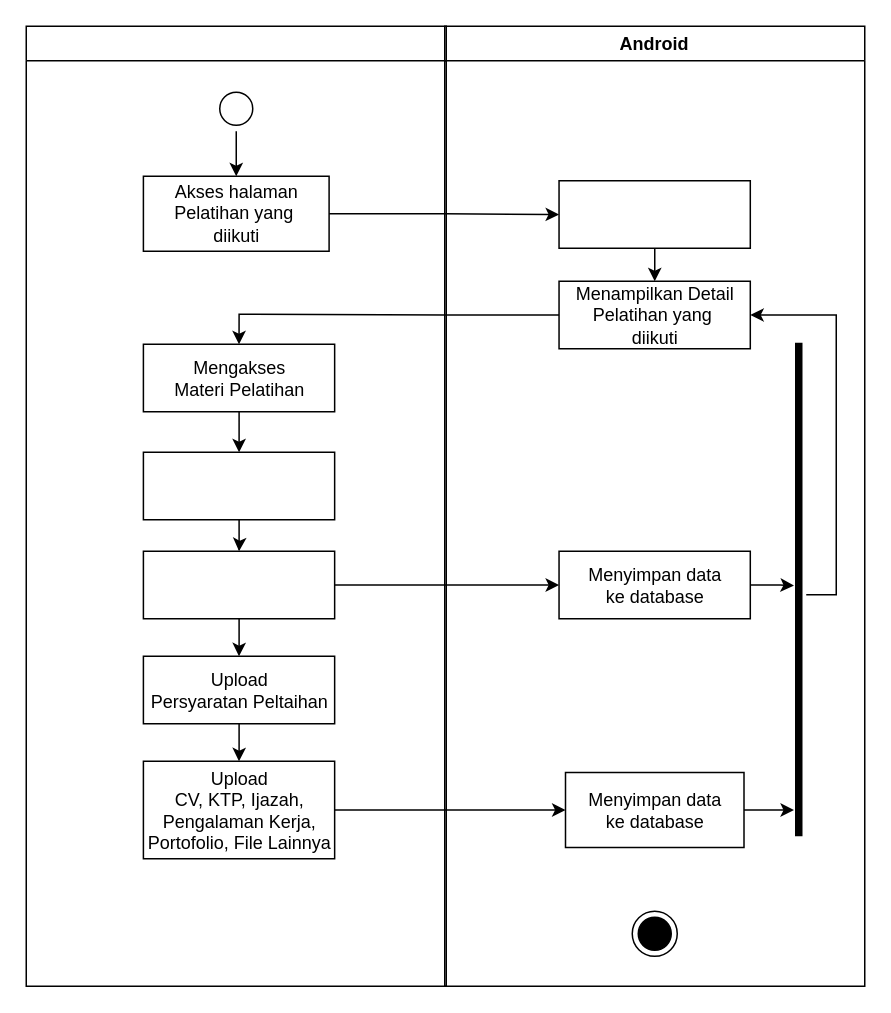
This 891x1013 diagram has some shape labels left out. Here are the shapes that lost their labels. From the top down, the box of each, then its label:
(558, 179, 750, 248): Menampilkan Halaman Pelatihan yang diikuti
(25, 25, 446, 986): Customers
(142, 451, 335, 520): Mengakses Sertifikasi Pelatihan
(142, 550, 335, 619): Upload Tugas Pelatihan
